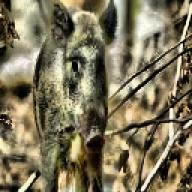boar: (30, 0, 118, 192)
